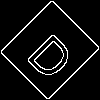D: (25, 25, 83, 83)
